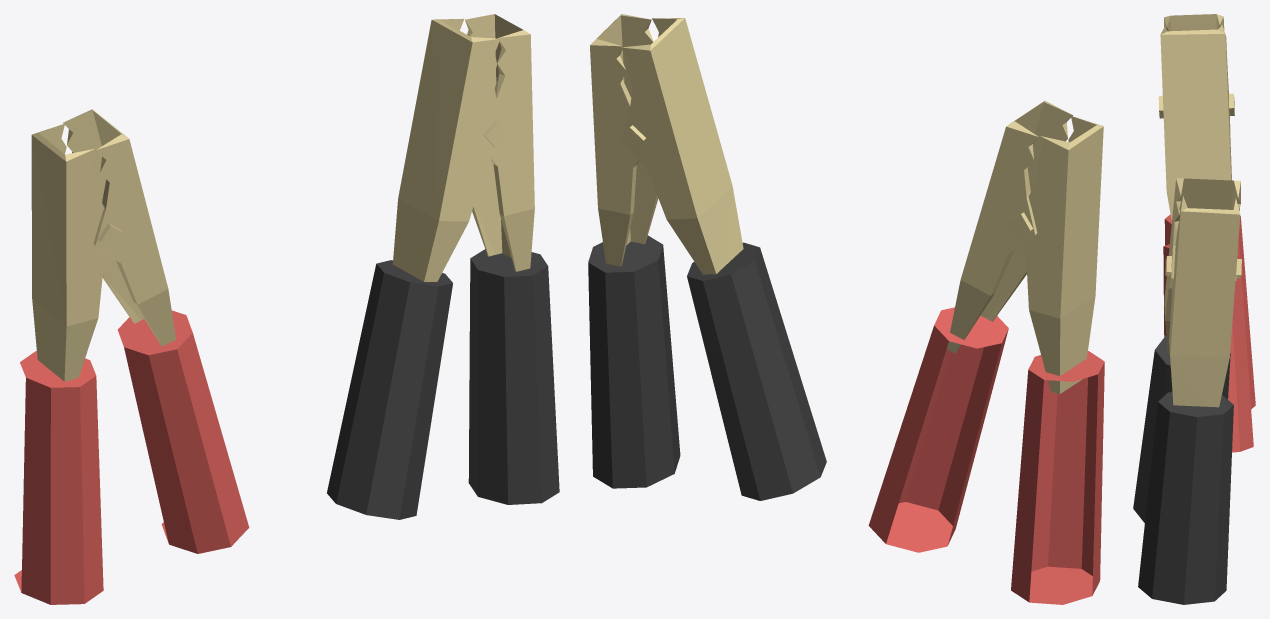
File: Pinzas caiman.fbx
The picture shows the model from 3 angles, left to right: view 1: azimuth 30°, elevation 25°; view 2: azimuth 150°, elevation 25°; view 3: azimuth 270°, elevation 25°; orthographic projection. The views are drawn at different scales.
Visible parts, largest first — view 1: Negro, Rojo; view 2: Negro, Rojo; view 3: Negro, Rojo.
Boxes of the visible parts, bbox=[...] form: Negro: bbox=[327, 14, 559, 519]; Rojo: bbox=[14, 109, 249, 604]; Negro: bbox=[588, 14, 826, 500]; Rojo: bbox=[868, 101, 1104, 604]; Negro: bbox=[1133, 178, 1241, 604]; Rojo: bbox=[1158, 14, 1255, 452].
Bounding box in the file's own units: 44.05 × 37.99 × 10.69.
